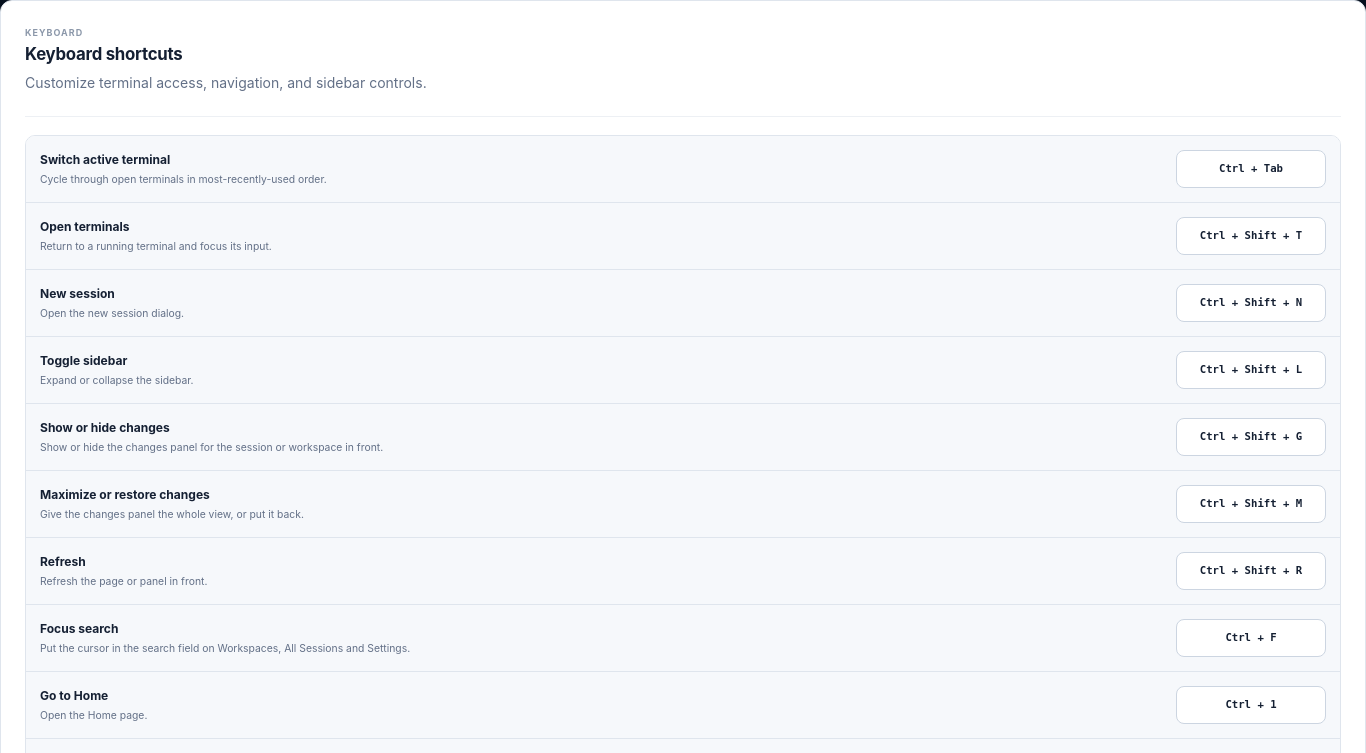
KeyboardShortcutsPanel › does not save Windows Alt+Tab
Click the button with aria-label "Record terminal switcher shortcut": click(1251, 169) top-left (1176, 150), bottom-right (1326, 188)
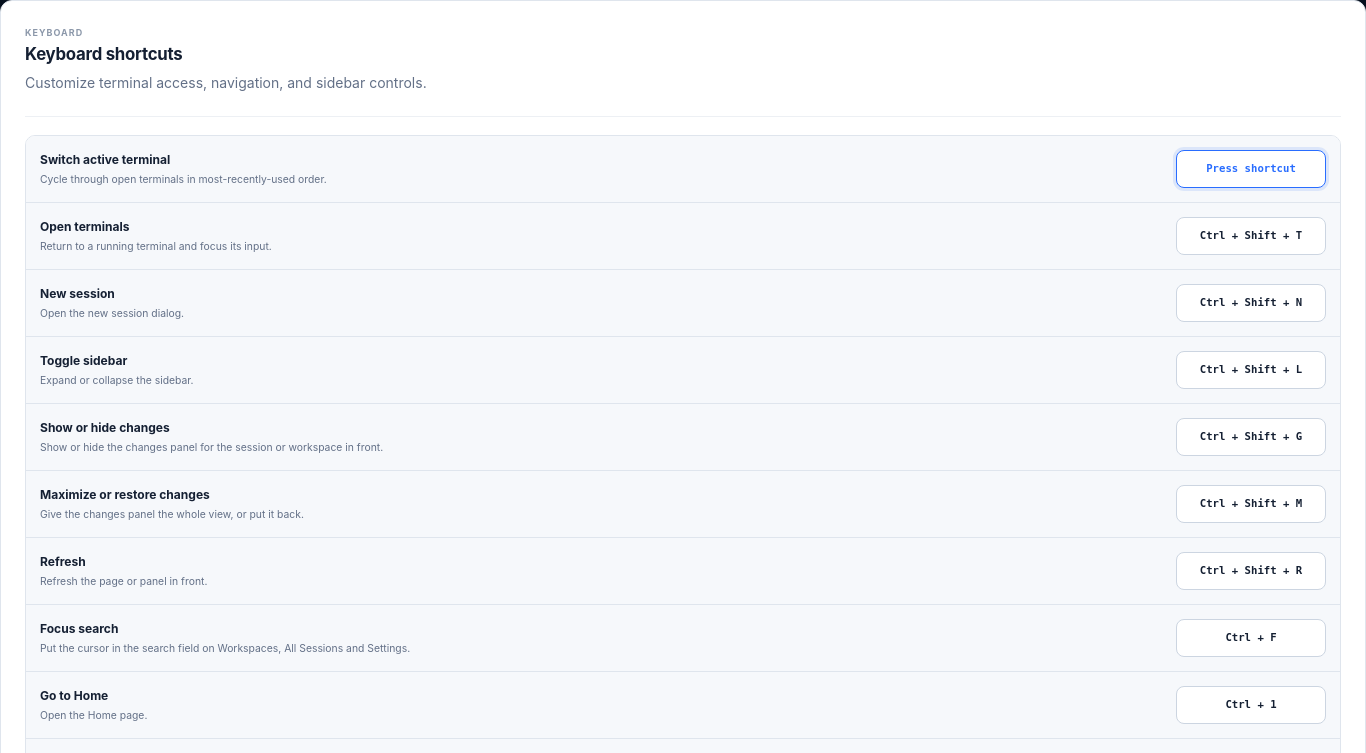
Press Tab in the button with aria-label "Record terminal switcher shortcut", box top-left (1176, 150), bottom-right (1326, 188)
(page scrolled)
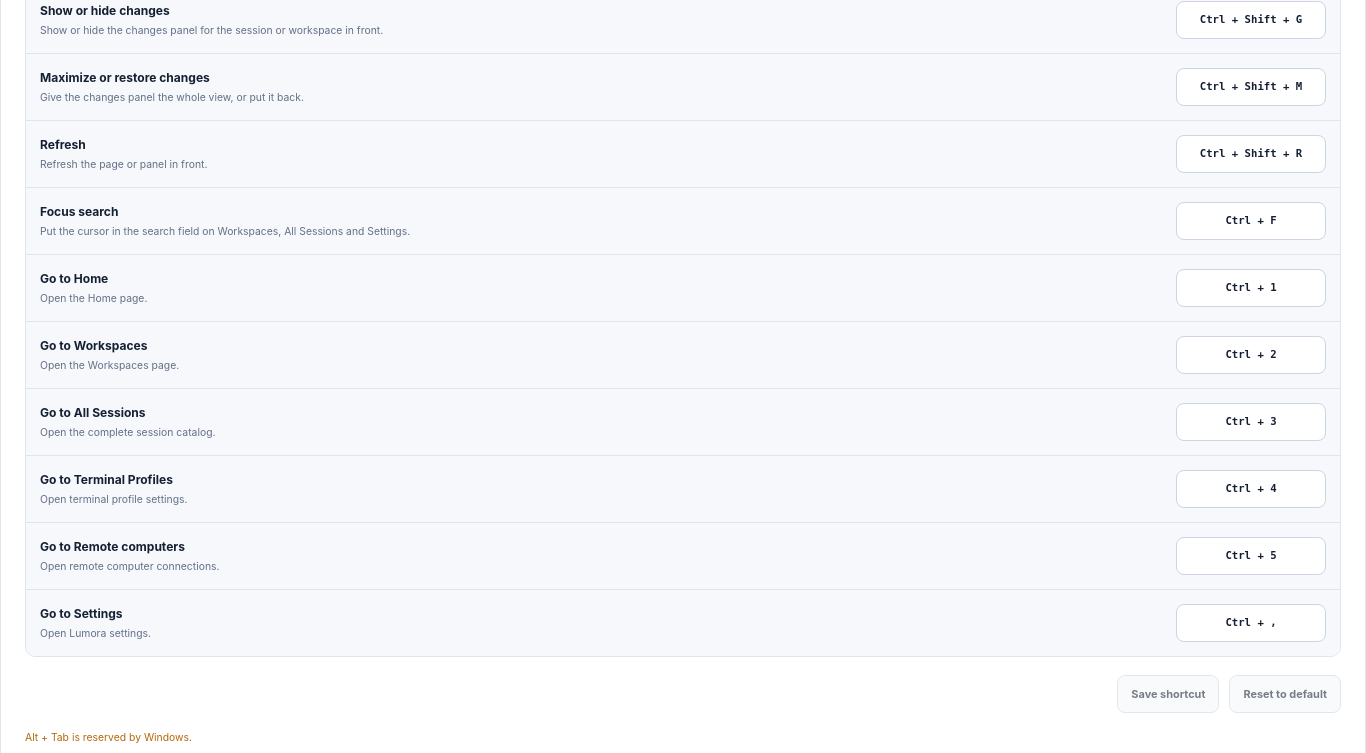
Expected: the message shows "reserved by Windows", top-left (25, 731), bottom-right (192, 743)
